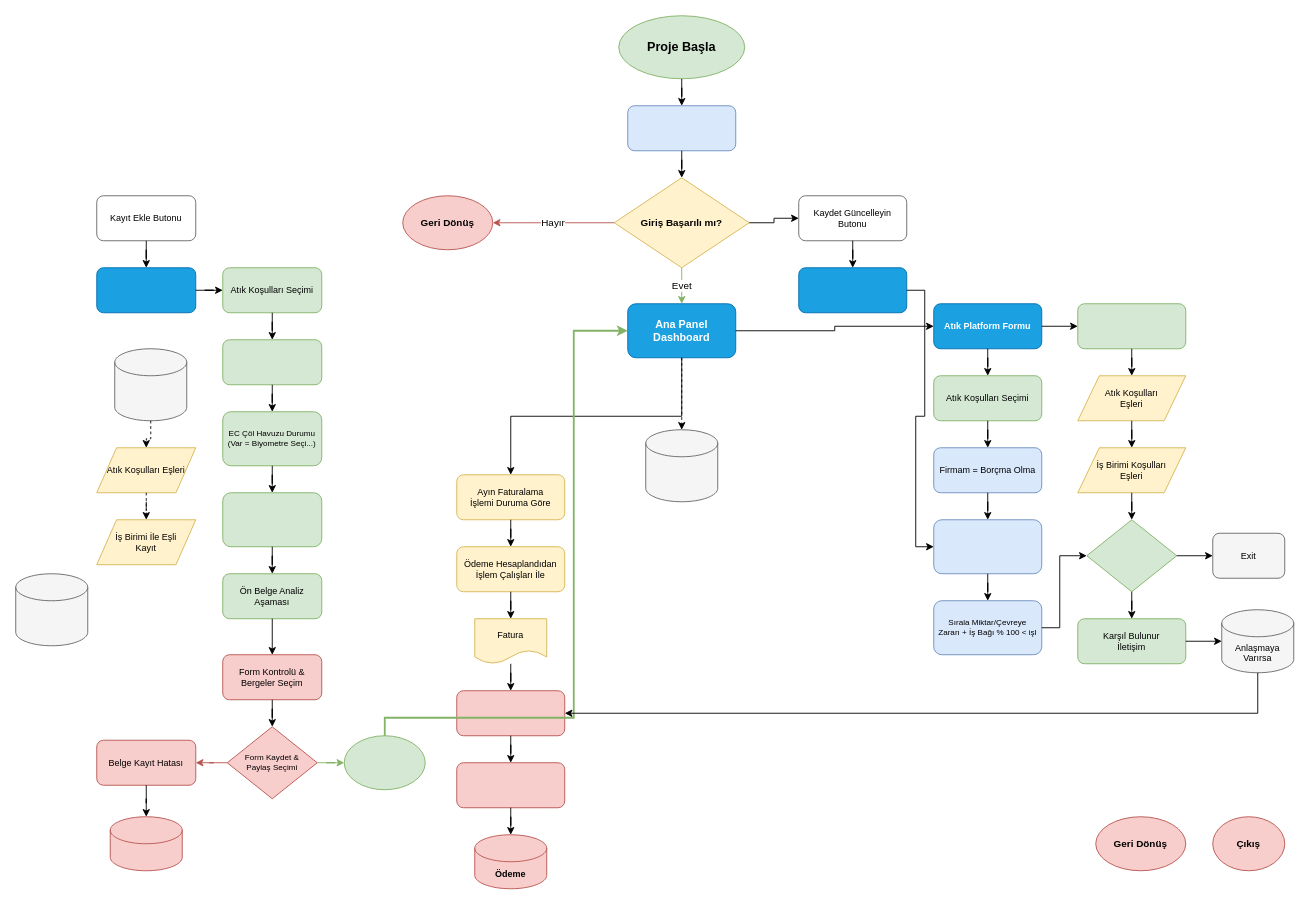
The diagram is 1310 pixels wide and 905 high, and some of its shapes have lost their labels. Each missing label, with the box of its shape:
Algılanma?: (1086, 519, 1177, 592)
Atık Eşleme Algoritması: (1077, 303, 1186, 349)
EC Çöl Havuzu Durumu (Yok = Biyometre Seçi...): (222, 492, 322, 547)
Error: (109, 816, 182, 871)
Form Ekranı (Kayıt): (96, 267, 196, 313)
Head Org: (627, 105, 736, 151)
İş Birimi Onayı Seçimi: (222, 339, 322, 385)
Kayıt Başarılı: (343, 735, 425, 790)
Kayıt Database: (645, 429, 718, 502)
Kimlik Doğrulama İşlemleri: (15, 573, 88, 646)
Koşullardan Ürün Listeyi Çek: (798, 267, 907, 313)
Sorgu/İnceleme İşlemleri: (114, 348, 187, 421)
Sırala Miktar/Çevreye Zararı + İş Bağı % 100 = işl: (933, 519, 1042, 574)
Ödeme Hesaplanmalıdan İşlem Durumu İle: (456, 690, 565, 736)
Ödeme İşle Depolanan İşlem Durumulması İle: (456, 762, 565, 808)
